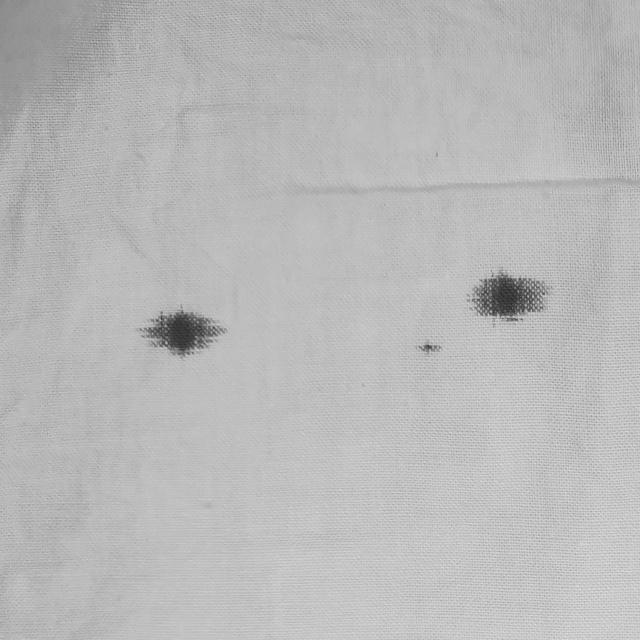Stain: (0, 0, 127, 140), (137, 307, 226, 357), (472, 271, 550, 317), (417, 341, 443, 354)
